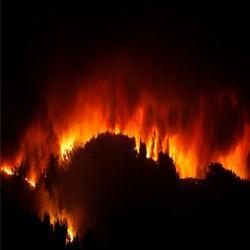fire: (54, 134, 85, 158), (176, 151, 196, 179), (25, 170, 33, 191)
